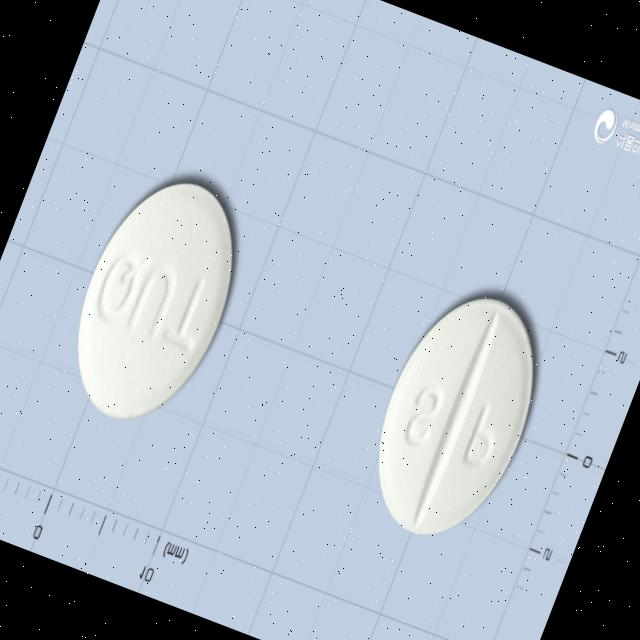Qupron Tab: (347, 272, 566, 560), (46, 160, 265, 444)
